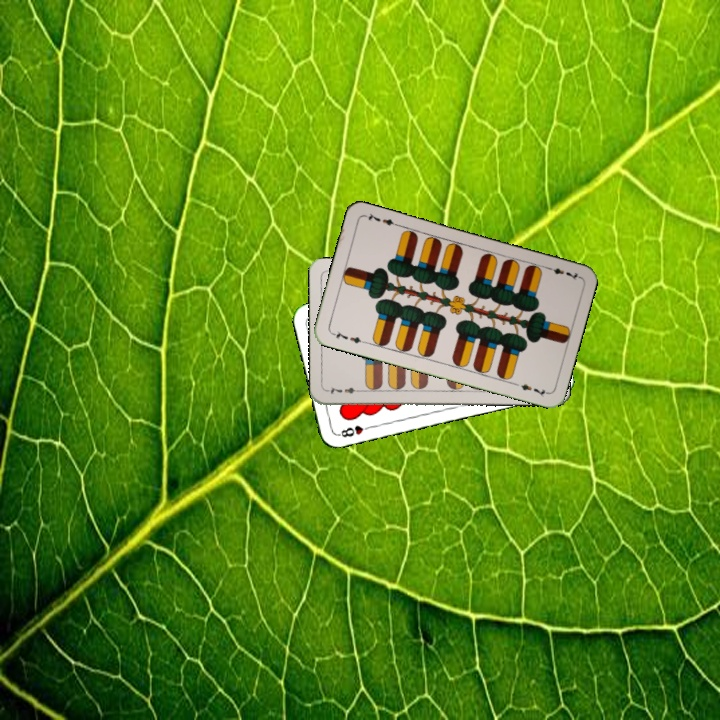E7: (542, 262, 582, 283), (328, 327, 368, 346), (324, 383, 365, 397)
H8: (334, 421, 374, 440)
